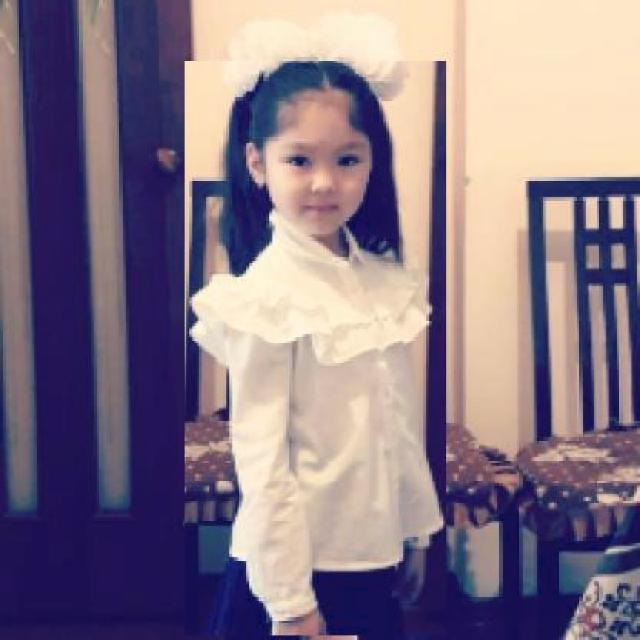child: (183, 60, 446, 637)
